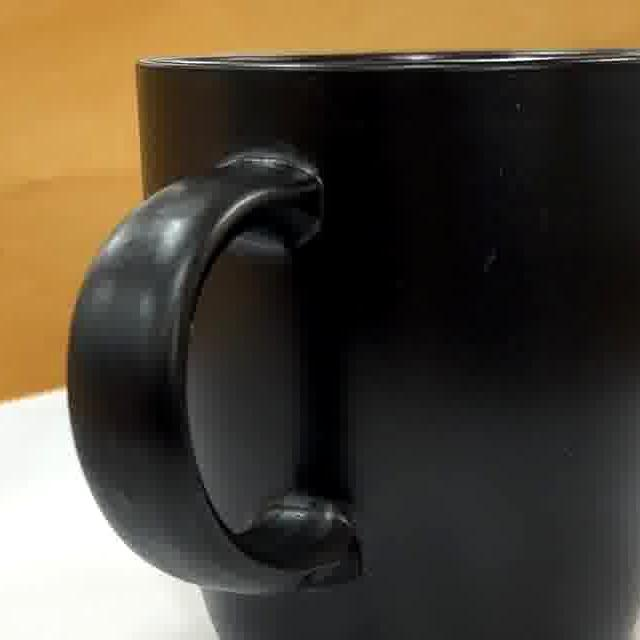cup: (68, 54, 640, 640)
